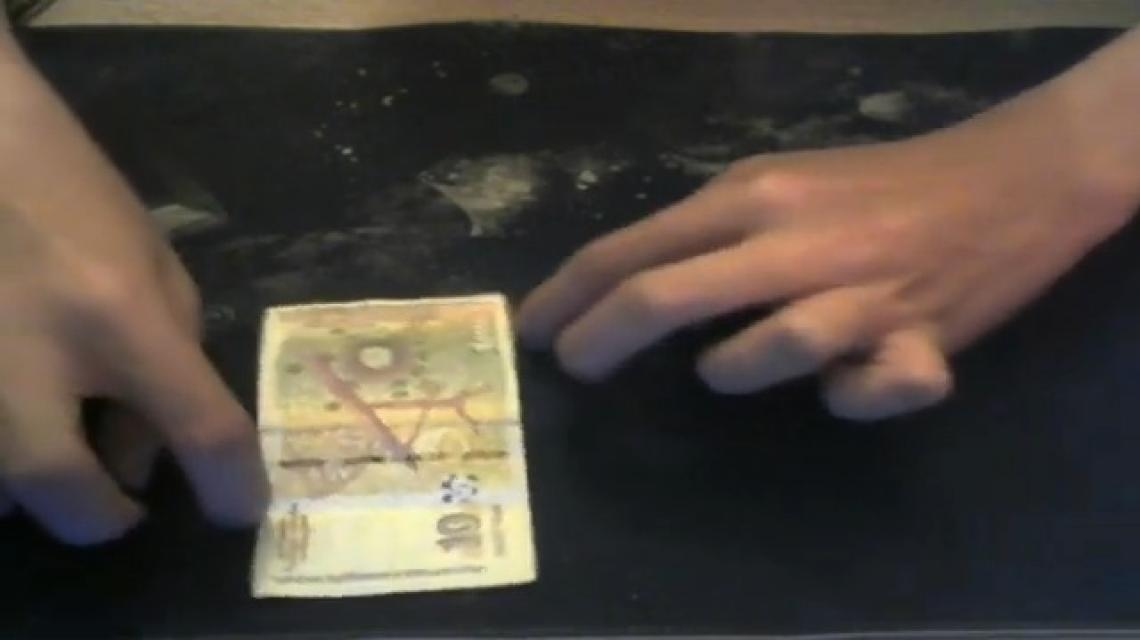10leva: (249, 293, 538, 601)
